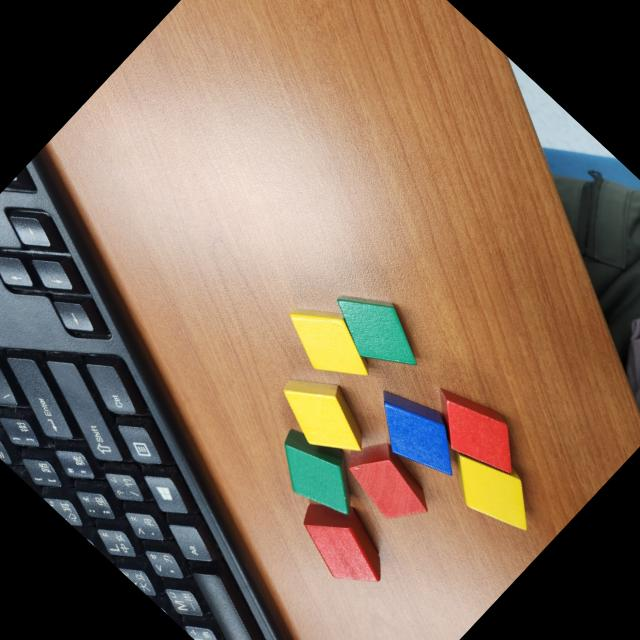blue: (356, 373, 476, 492)
green: (259, 414, 379, 532), (317, 272, 436, 389)
red: (414, 372, 536, 492), (283, 484, 404, 603), (331, 427, 444, 538)
yellow: (271, 288, 388, 402), (266, 361, 381, 474), (437, 436, 552, 548)
